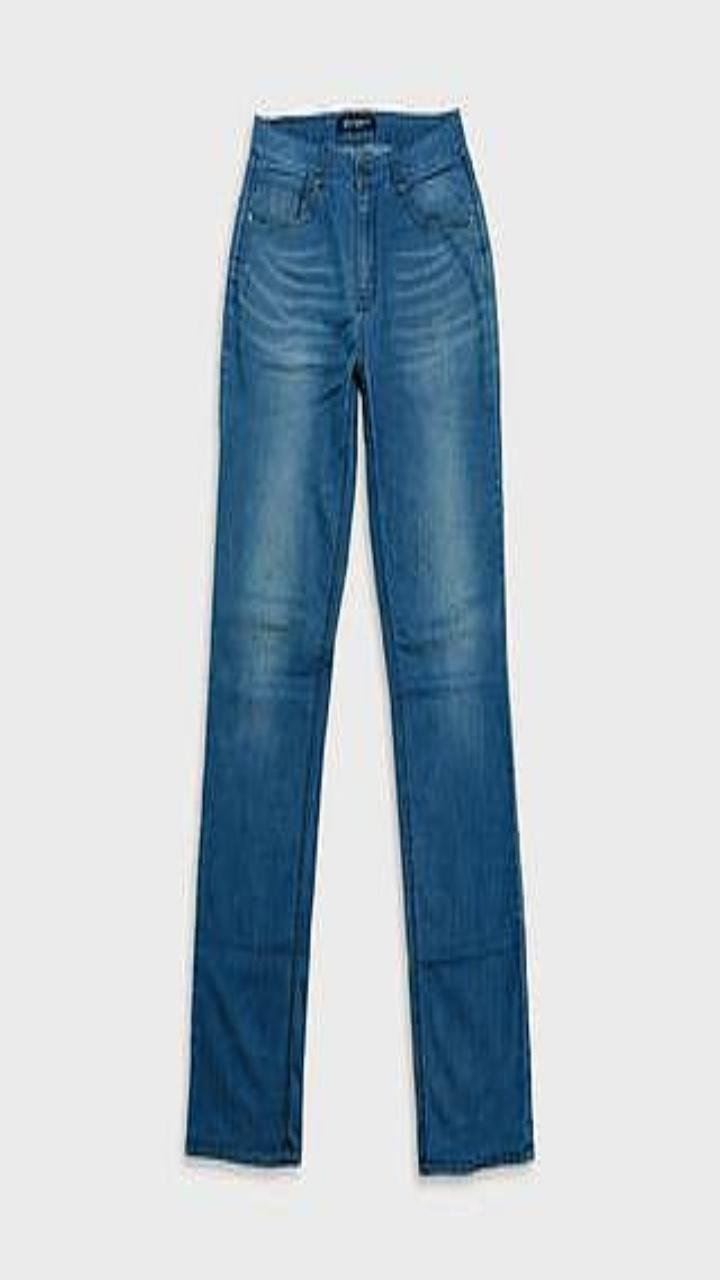Jeans: (186, 111, 532, 1173)
